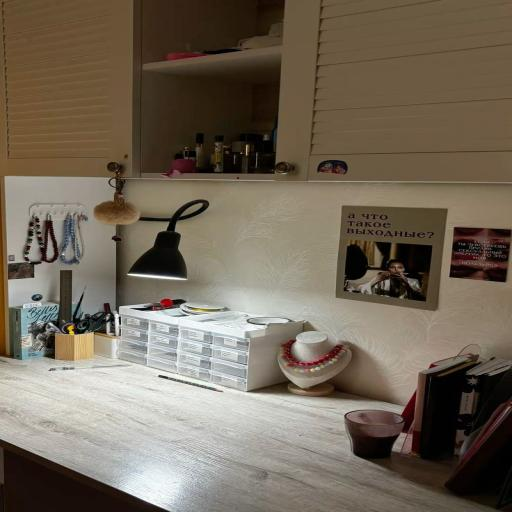bed: (412, 355, 476, 454), (446, 403, 511, 494), (420, 361, 477, 459), (454, 359, 511, 455), (10, 303, 59, 359), (473, 369, 511, 430), (429, 354, 475, 368)
road: (143, 47, 281, 82), (140, 173, 275, 181)
stroller: (0, 358, 492, 511)
